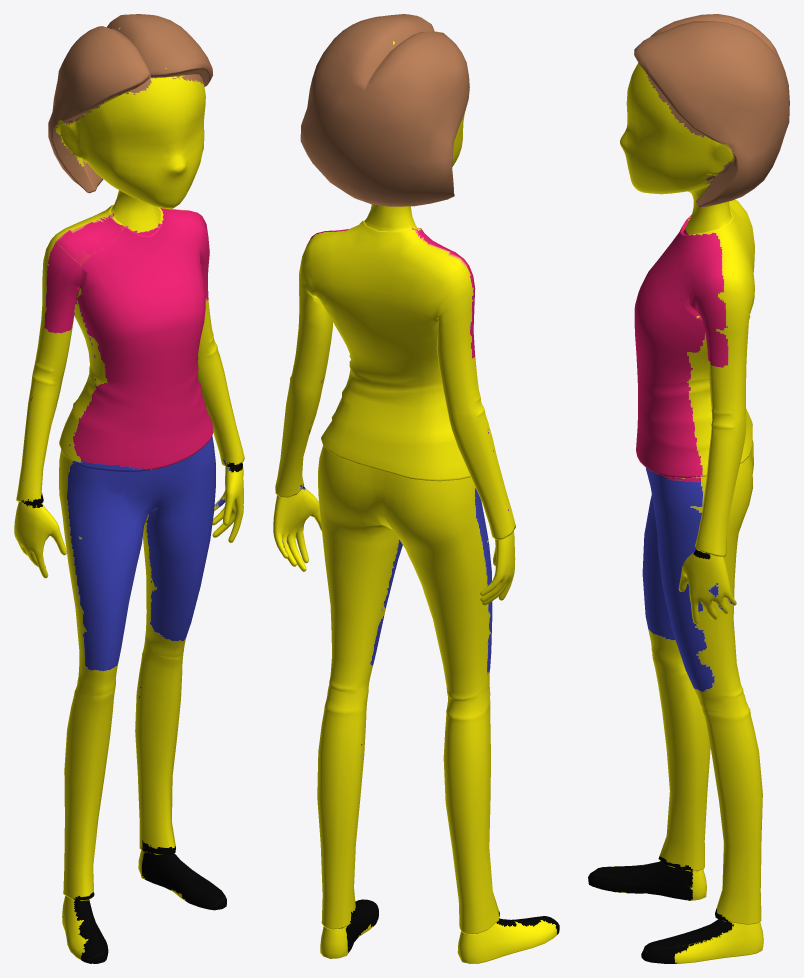
Rendered from Person.fbx.
The picture shows the model from 3 angles, left to right: view 1: azimuth 30°, elevation 25°; view 2: azimuth 150°, elevation 25°; view 3: azimuth 270°, elevation 25°; orthographic projection. The views are drawn at different scales.
Parts seen in each view (by area): view 1: node_id148; view 2: node_id148; view 3: node_id148.
Part boxes in pixels (x1,y1,x2,y2): node_id148: (14, 14, 244, 963); node_id148: (273, 14, 559, 963); node_id148: (588, 14, 789, 963).
Size of the model in its own units: 0.1368 by 0.512 by 0.103.
1 material, 1 textured.
